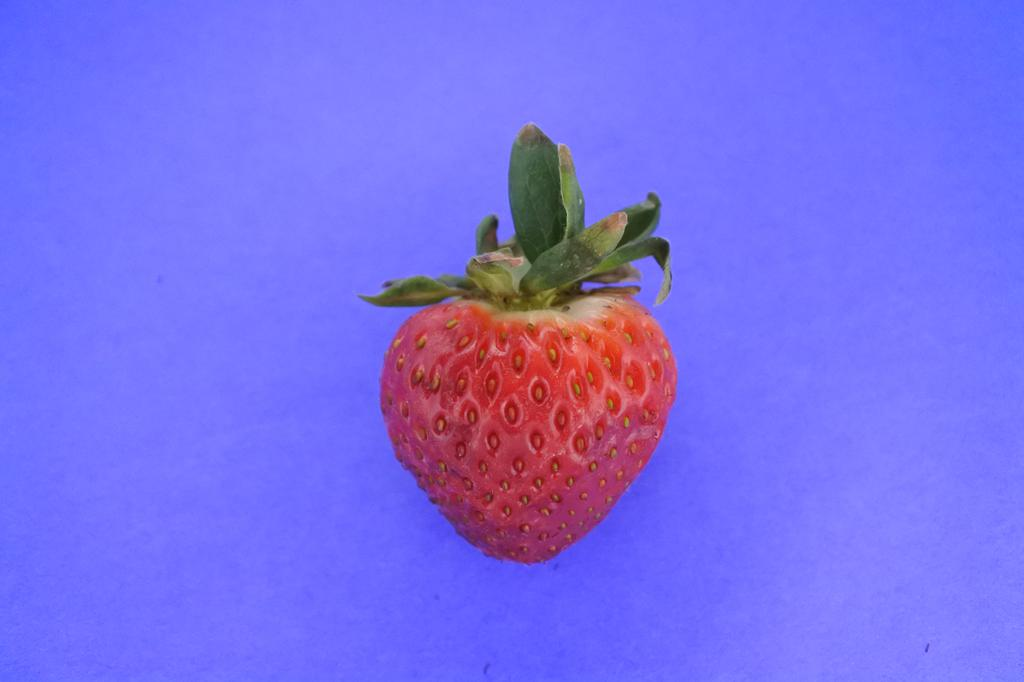red strawberry: (362, 126, 680, 565)
